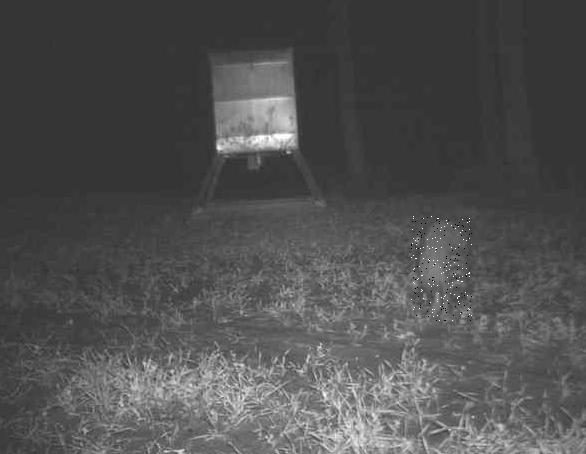Raccoon: (411, 216, 472, 322)
